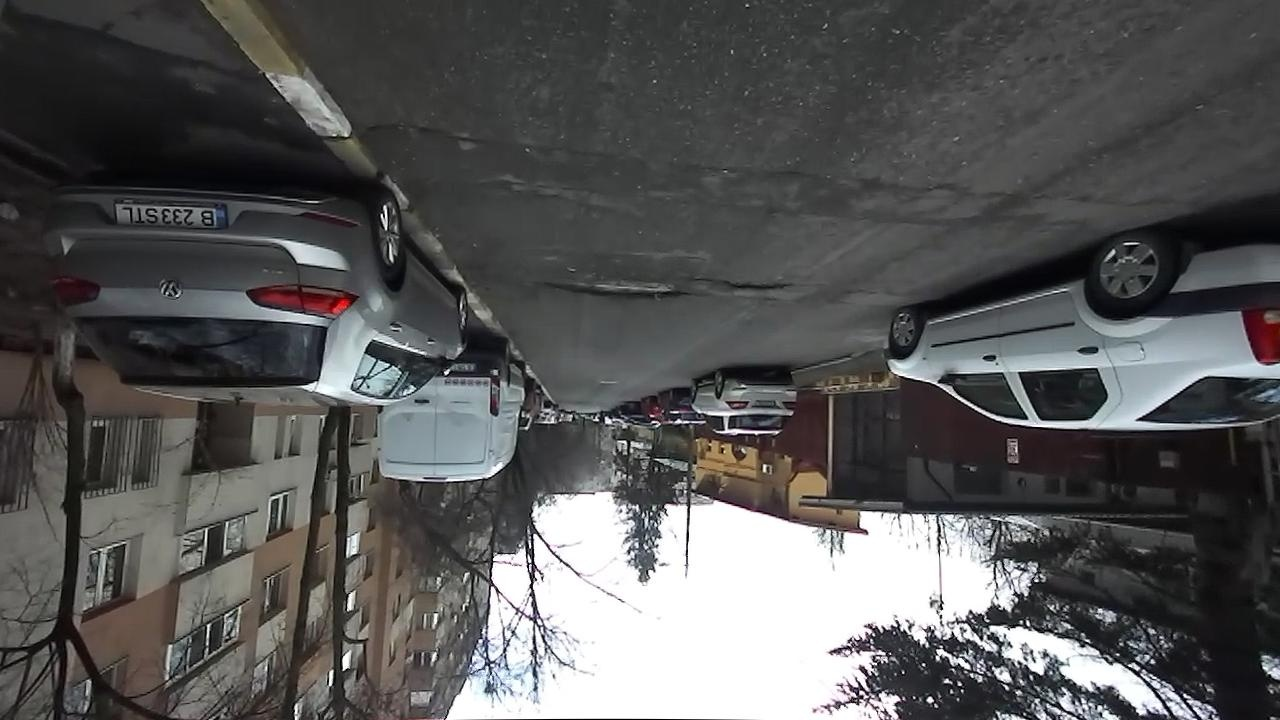pothole: (367, 113, 492, 151), (540, 273, 689, 303), (716, 277, 793, 294), (693, 277, 712, 282)
